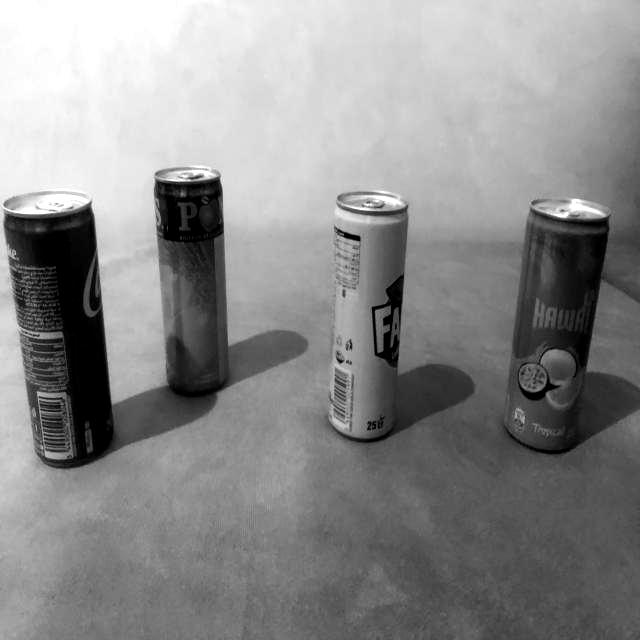metal: (493, 185, 615, 468), (4, 193, 116, 466), (324, 186, 411, 450), (148, 166, 236, 399)
